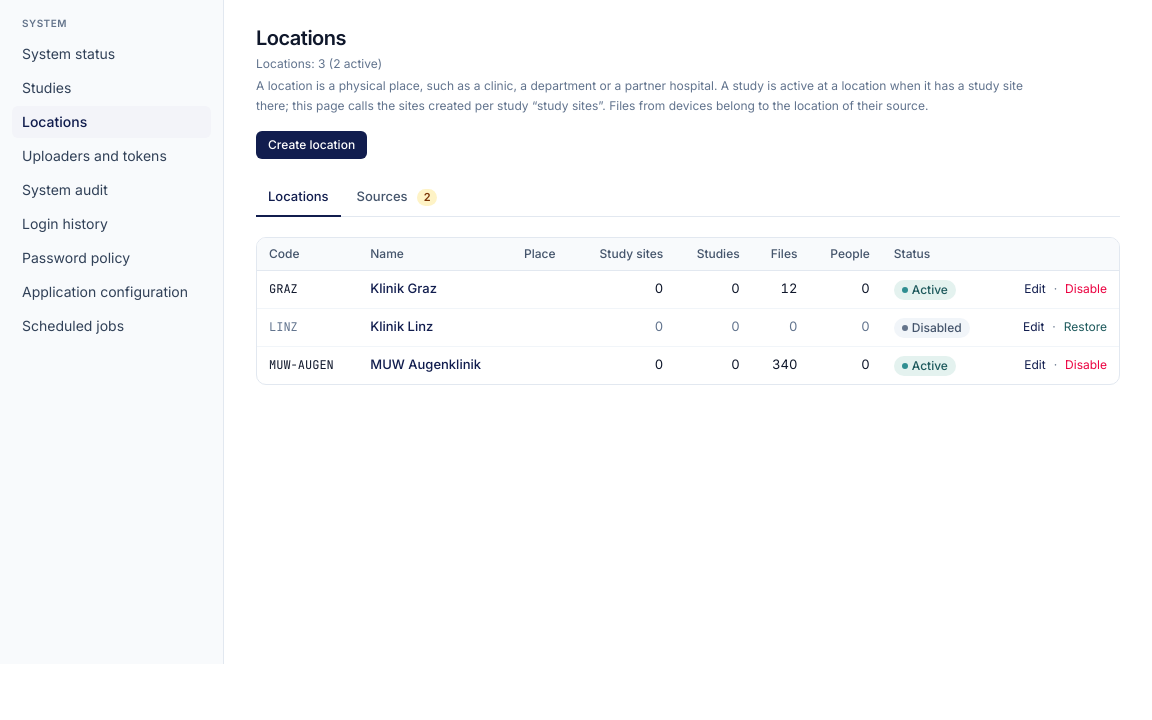
System → Standorte → Quellen › the sources table › lists every source in the server order, with kind, name and key, waiting files and status
Step 1. Click the tab "Sources 2" → (397, 198), box x1=345 y1=179 x2=449 y2=216
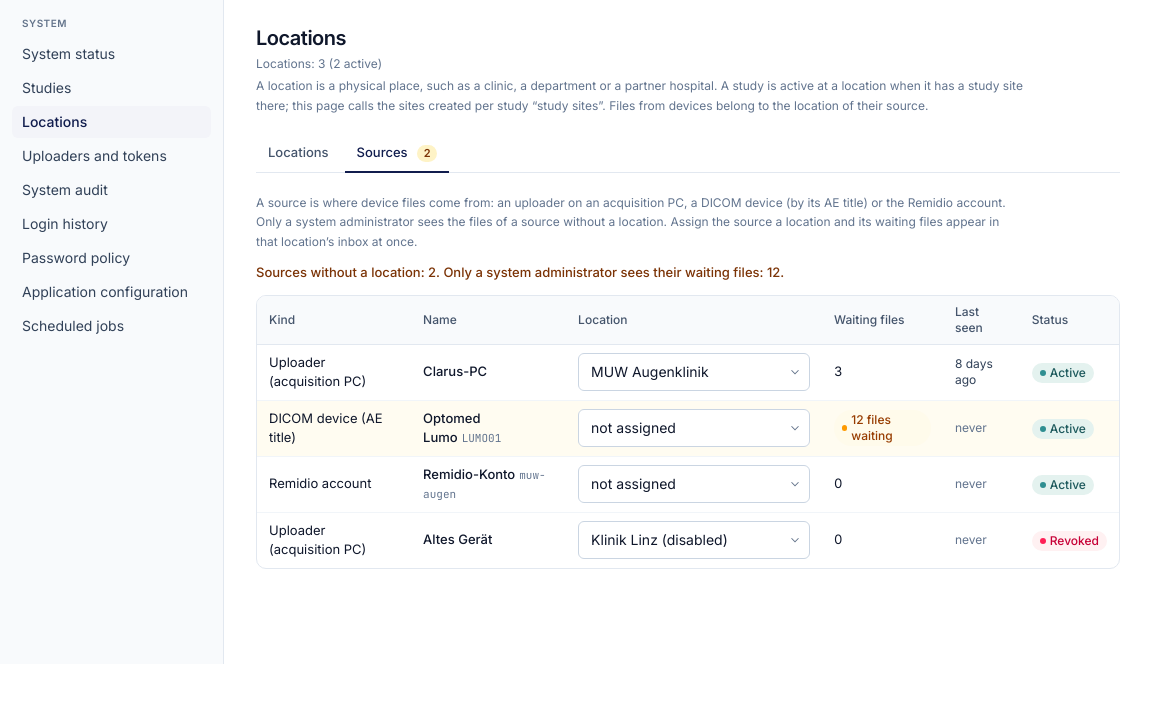
Check: the cell "Uploader (acquisition PC)" next to "Clarus-PC" is shown, box x1=269 y1=354 x2=366 y2=389
Check: the cell "DICOM device (AE title)" is shown, box x1=257 y1=400 x2=411 y2=456
Check: the cell "Remidio account" is shown, box x1=257 y1=456 x2=411 y2=512
